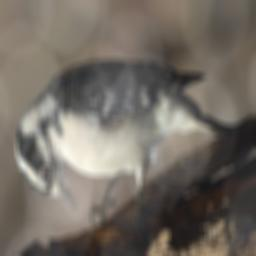Woodpecker: (16, 59, 239, 229)
